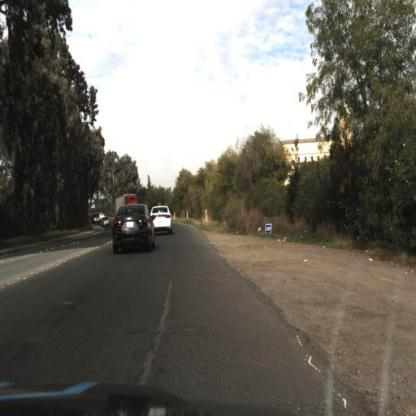car: (112, 204, 157, 259), (147, 200, 177, 243), (151, 204, 178, 235)
